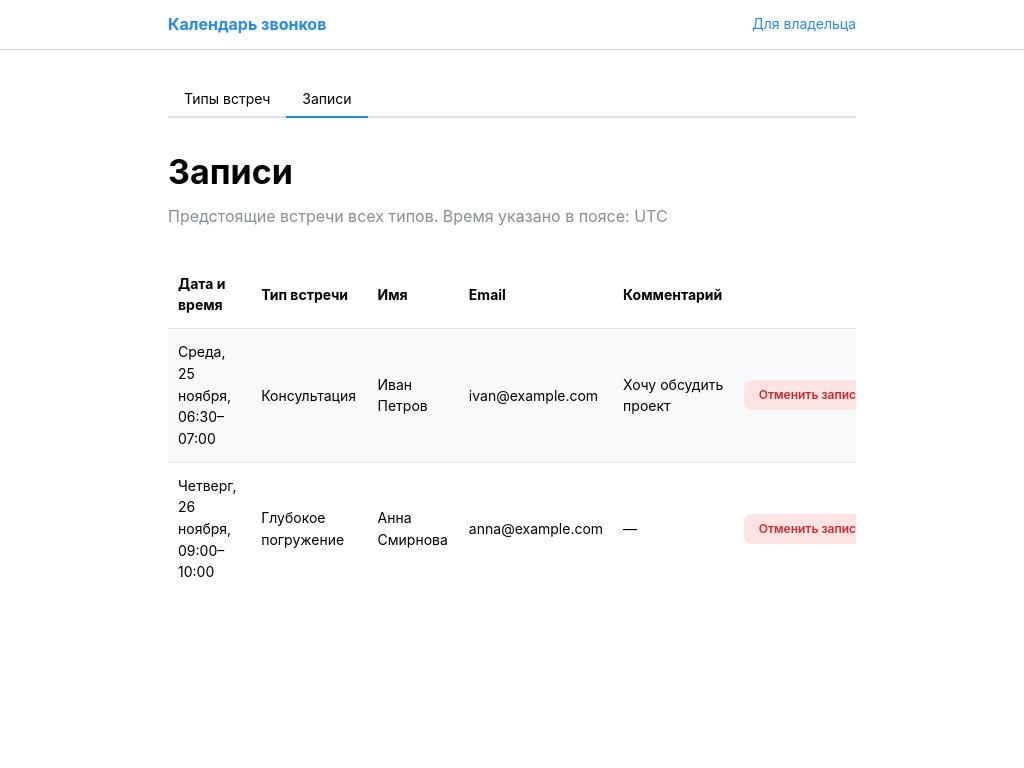
отмена записи: сетевая ошибка — сообщение об ошибке и список перечитывается
The image size is (1024, 768).
Click the button "Отменить запись" in the row of "Консультация": (811, 395) x1=744 y1=380 x2=878 y2=410
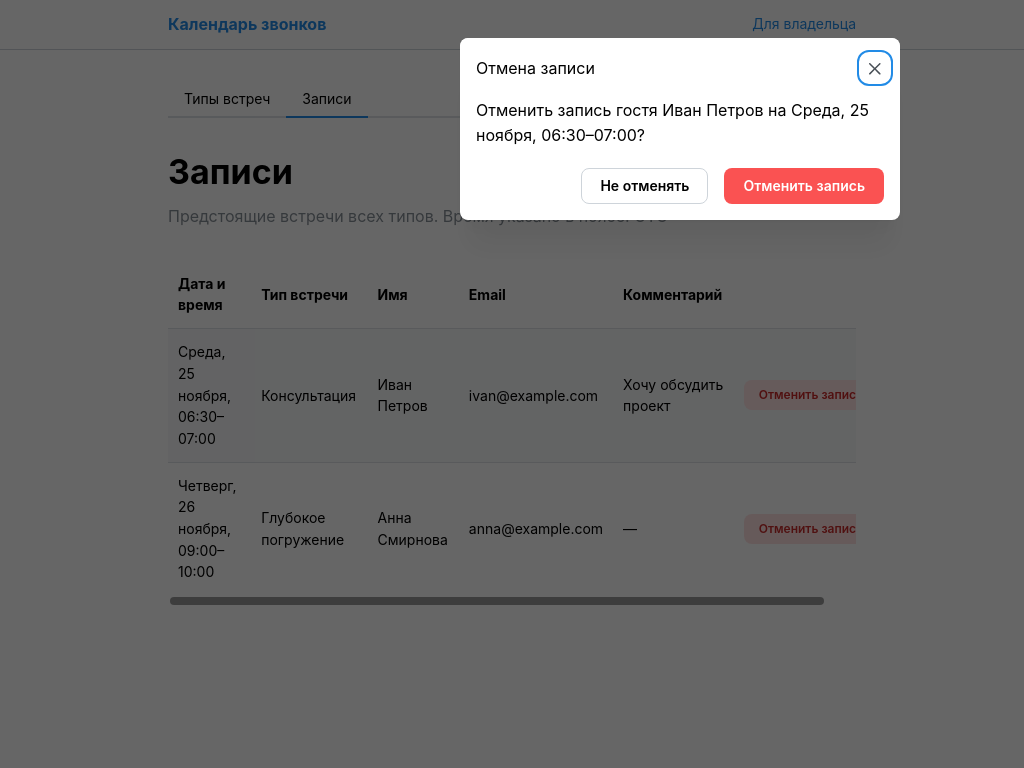
Click the button "Отменить запись": (804, 186) x1=724 y1=168 x2=884 y2=204
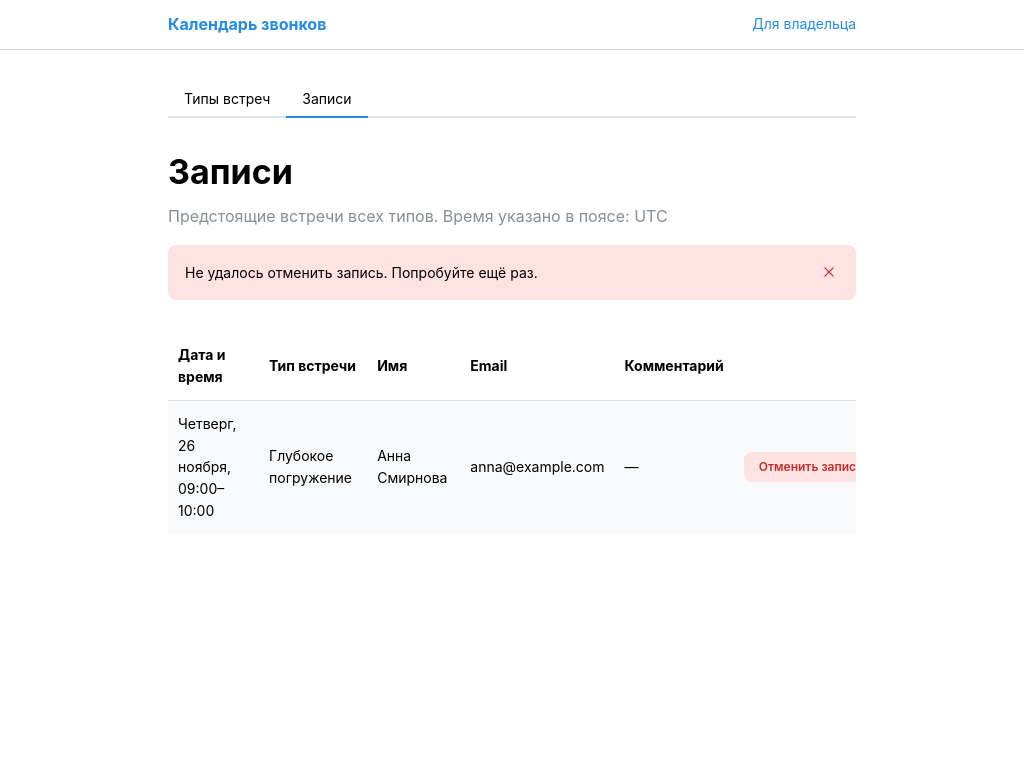
Expected: the message reads "Не удалось отменить запись. Попробуйте ещё раз.", x1=185 y1=264 x2=538 y2=281
Expected: the cell "Иван Петров" is gone
